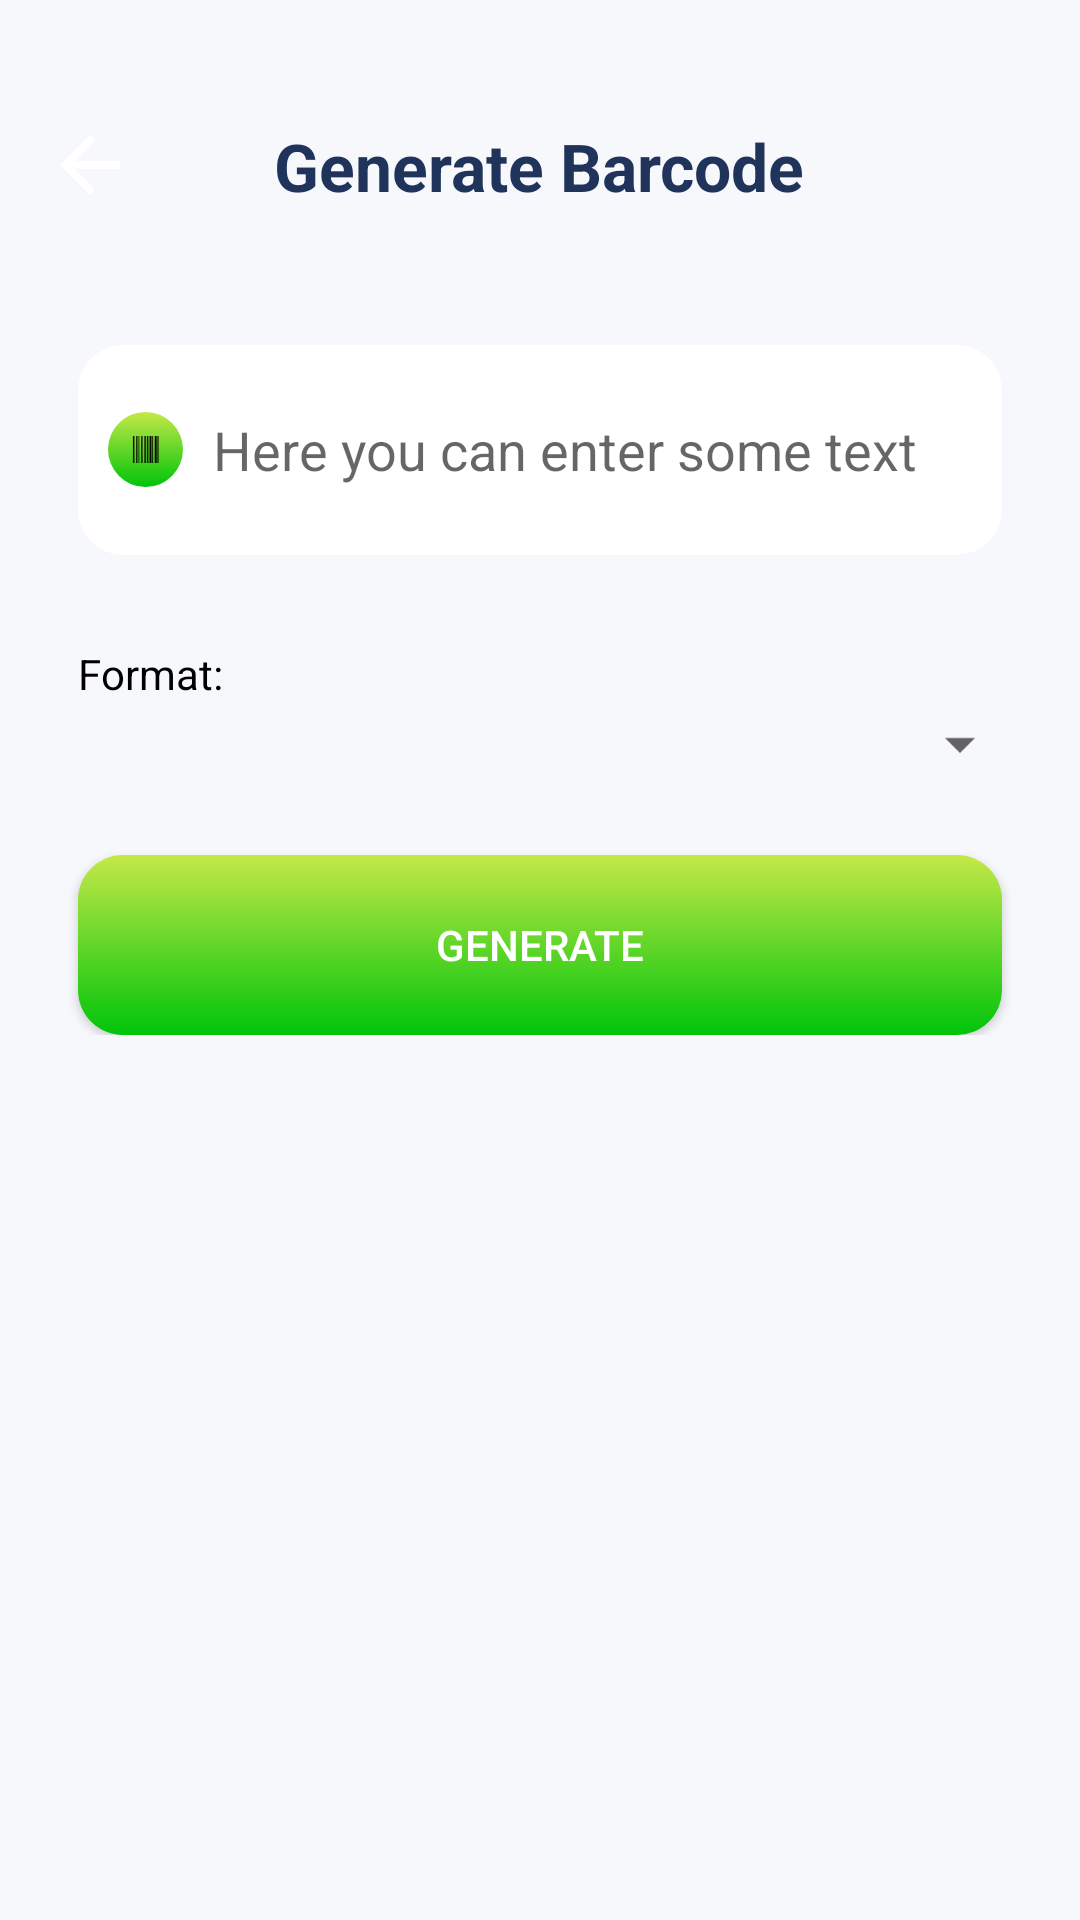

Point at icon controls on the screen. Image size 1080*1920, points as (x=x, y=y).
barcode: (x=145, y=449)
